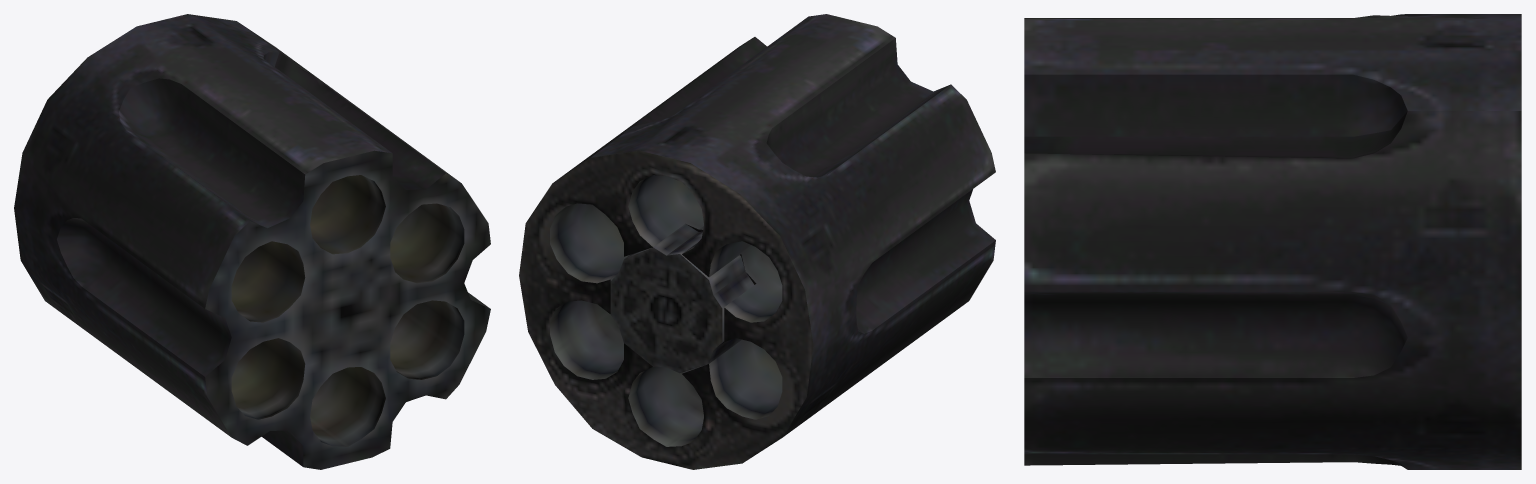
File: baraban.obj
The picture shows the model from 3 angles, left to right: view 1: azimuth 30°, elevation 25°; view 2: azimuth 150°, elevation 25°; view 3: azimuth 270°, elevation 25°; orthographic projection. The views are drawn at different scales.
Parts seen in each view (by area): view 1: wpn_revolver; view 2: wpn_revolver; view 3: wpn_revolver.
Part boxes in pixels (<box>): wpn_revolver: <box>14,14,490,469</box>; wpn_revolver: <box>519,14,995,469</box>; wpn_revolver: <box>1024,14,1521,469</box>.
Size of the model in its own units: 0.0485 by 0.0482 by 0.0533.
